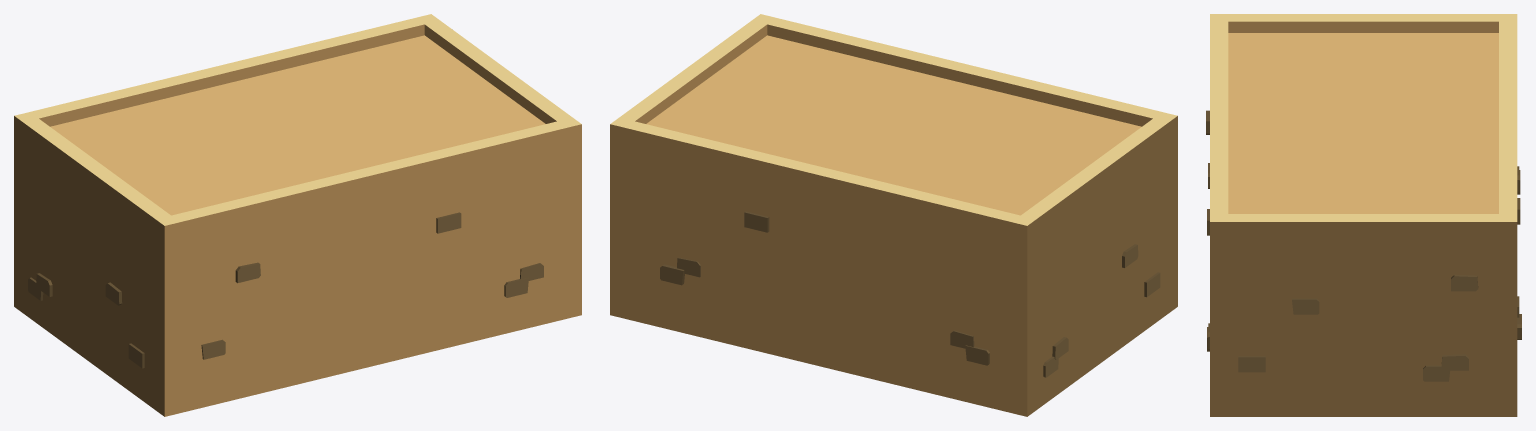
File: TB_D_Bd_Body_Wide_Yel.FBX
The picture shows the model from 3 angles, left to right: view 1: azimuth 30°, elevation 25°; view 2: azimuth 150°, elevation 25°; view 3: azimuth 270°, elevation 25°; orthographic projection. The views are drawn at different scales.
Visible parts, largest first — view 1: TB_D_Bd_Body_Wide_Yel; view 2: TB_D_Bd_Body_Wide_Yel; view 3: TB_D_Bd_Body_Wide_Yel.
Boxes of the visible parts, x1,y1,x2,y2 form: TB_D_Bd_Body_Wide_Yel: (14,14,581,416); TB_D_Bd_Body_Wide_Yel: (610,14,1177,416); TB_D_Bd_Body_Wide_Yel: (1206,14,1521,416).
Bounding box in the file's own units: 8.12 × 3.5 × 5.14.
